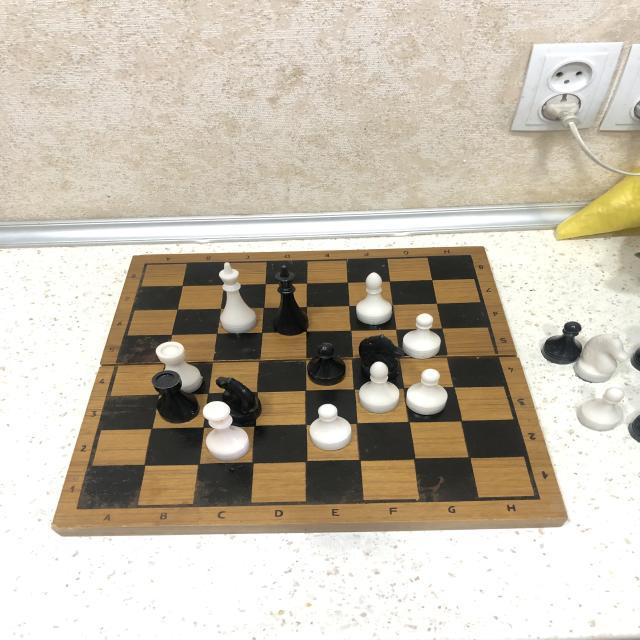chess-table-corners: (64, 496, 100, 524), (520, 486, 552, 509), (454, 250, 479, 266), (136, 260, 162, 274)
